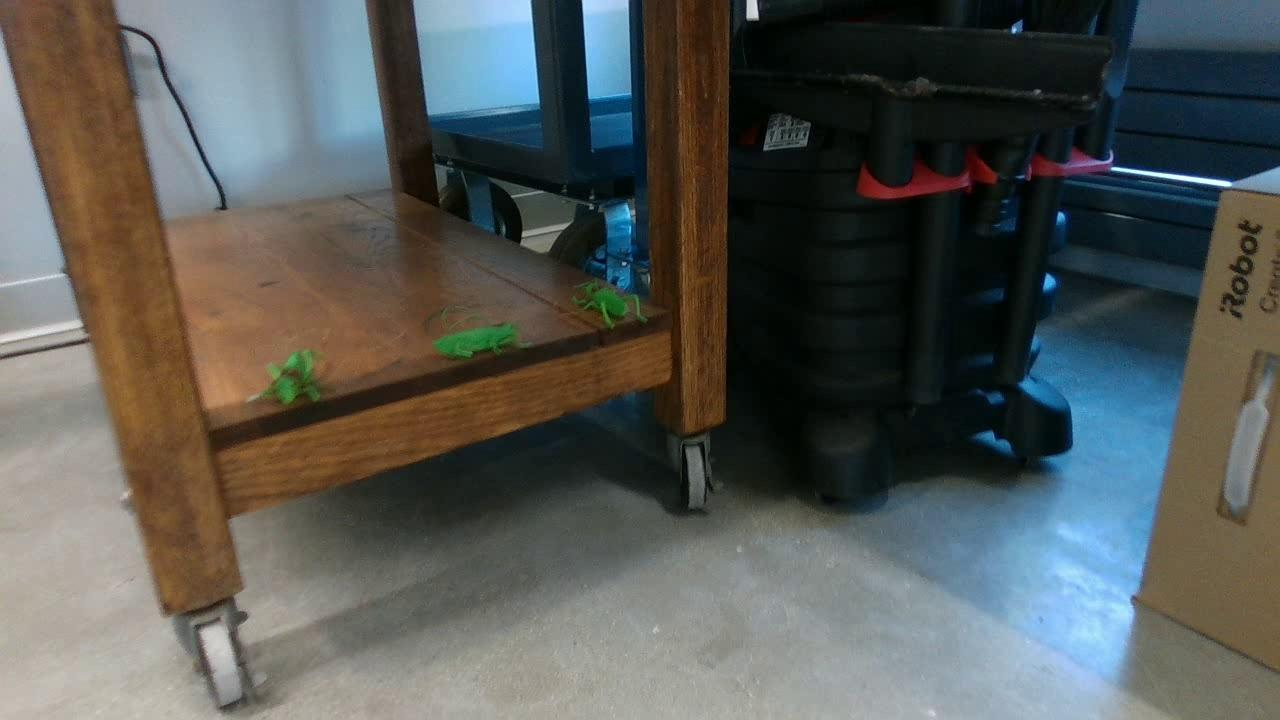grasshopper: (558, 277, 652, 335), (235, 355, 337, 405), (410, 319, 535, 355)
